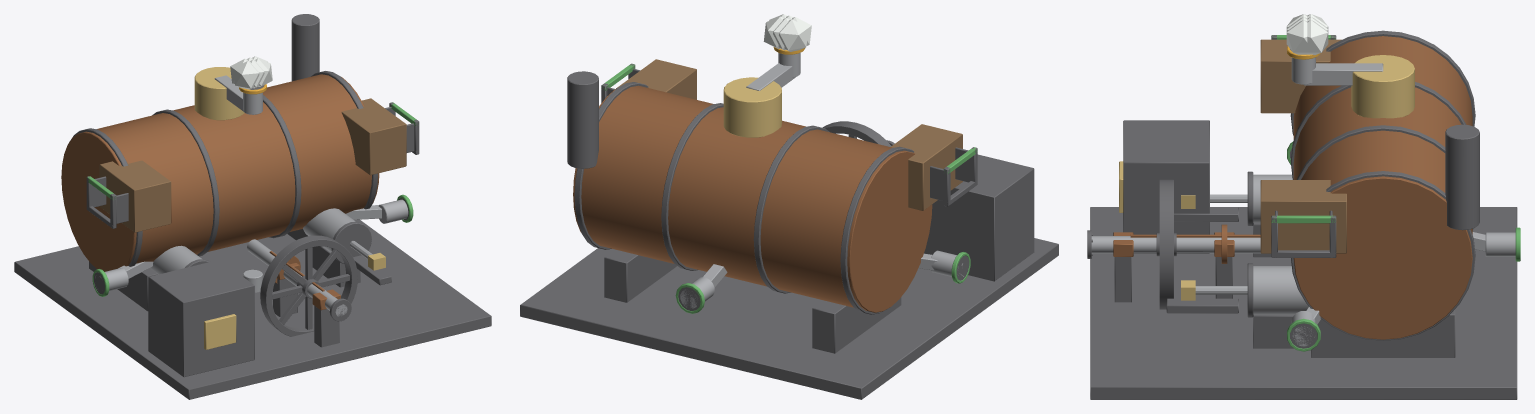
File: feSteamEngine.fbx
The picture shows the model from 3 angles, left to right: view 1: azimuth 30°, elevation 25°; view 2: azimuth 150°, elevation 25°; view 3: azimuth 270°, elevation 25°; orthographic projection. The views are drawn at different scales.
Visible parts, largest first — view 1: feSteamEngine_Base, FeSpin_SteamFlywheel, FeSteamPuff_1, FePiston_2; view 2: feSteamEngine_Base, FeSpin_SteamFlywheel, FeSteamPuff_4; view 3: feSteamEngine_Base, FeSpin_SteamFlywheel, FePiston_2, FeSteamPuff_3, FeSteamPuff_6, FePiston_1.
Boxes of the visible parts, x1=… form: feSteamEngine_Base: x1=14, y1=14, x2=491, y2=399; FeSpin_SteamFlywheel: x1=247, y1=235, x2=357, y2=336; FeSteamPuff_1: x1=233, y1=61, x2=259, y2=89; FePiston_2: x1=350, y1=241, x2=385, y2=270; feSteamEngine_Base: x1=520, y1=47, x2=1058, y2=399; FeSpin_SteamFlywheel: x1=822, y1=121, x2=894, y2=146; FeSteamPuff_4: x1=779, y1=19, x2=806, y2=51; feSteamEngine_Base: x1=1090, y1=30, x2=1520, y2=399; FeSpin_SteamFlywheel: x1=1087, y1=179, x2=1260, y2=309; FePiston_2: x1=1181, y1=280, x2=1247, y2=300; FeSteamPuff_3: x1=1286, y1=20, x2=1313, y2=54; FeSteamPuff_6: x1=1302, y1=20, x2=1328, y2=54; FePiston_1: x1=1181, y1=194, x2=1247, y2=208.
Size of the model in its own units: 3.01 by 2.24 by 3.
